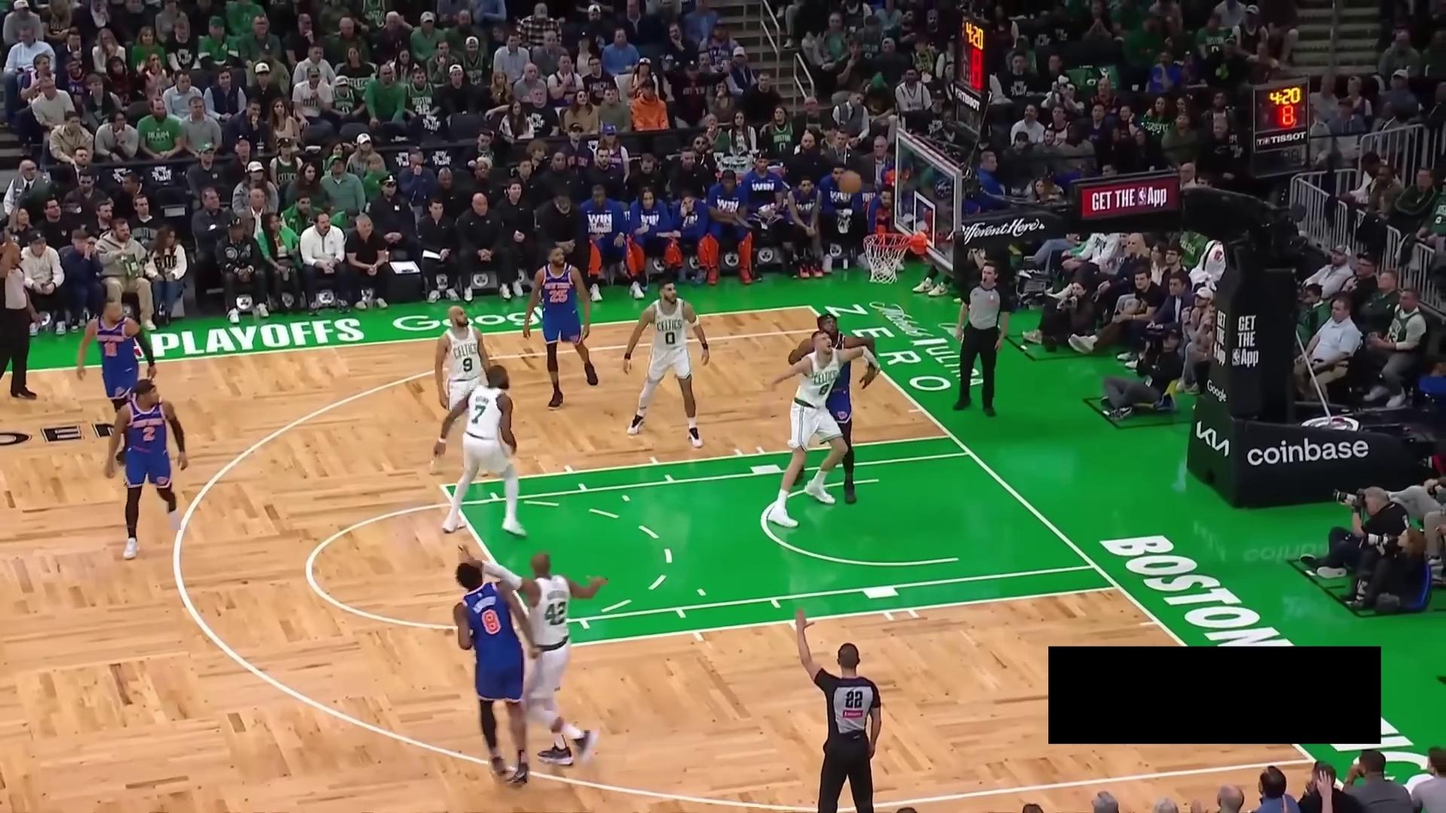ball: (837, 169, 862, 194)
number: (481, 608, 501, 635), (545, 601, 566, 626), (548, 287, 569, 303), (471, 404, 487, 424), (142, 425, 157, 443), (104, 340, 118, 357), (818, 381, 832, 397), (462, 356, 474, 373), (664, 330, 676, 346)
player: (454, 543, 609, 770), (767, 330, 881, 529), (452, 562, 543, 789), (787, 312, 879, 506), (435, 361, 530, 539), (104, 376, 190, 560), (621, 278, 711, 449), (522, 244, 599, 411), (75, 297, 158, 446), (430, 303, 492, 477)
referee: (795, 607, 883, 813), (952, 260, 1013, 418), (0, 231, 41, 404)
rim: (862, 231, 911, 250)
